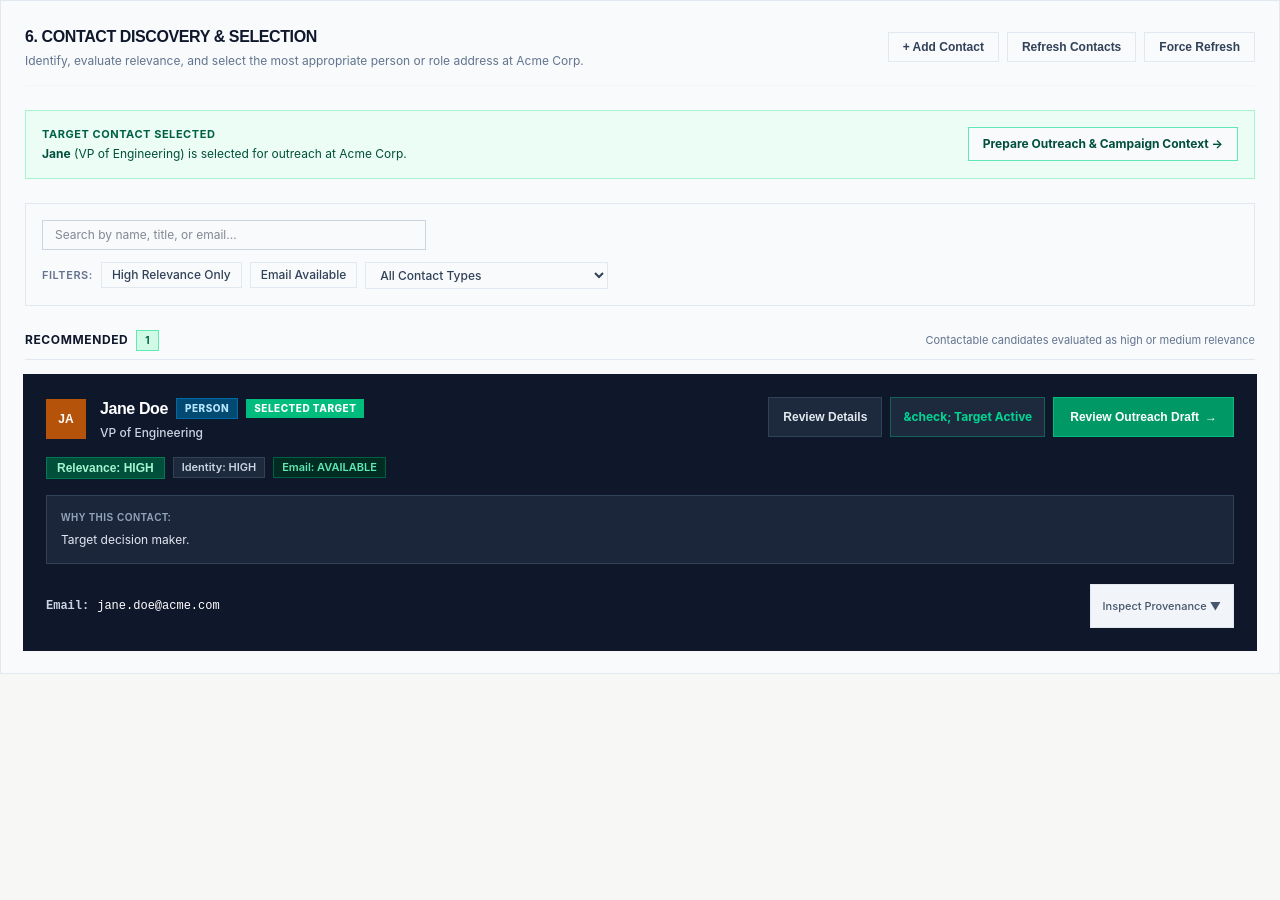
Test: ContactDiscoveryWorkspace Component - UX-004 Contact Discovery & Selection › does not open OutreachReviewDrawer and shows an error when canonical campaign is missing
Click the button "Review Outreach Draft →" at (1144, 417), box x1=1053 y1=397 x2=1234 y2=437
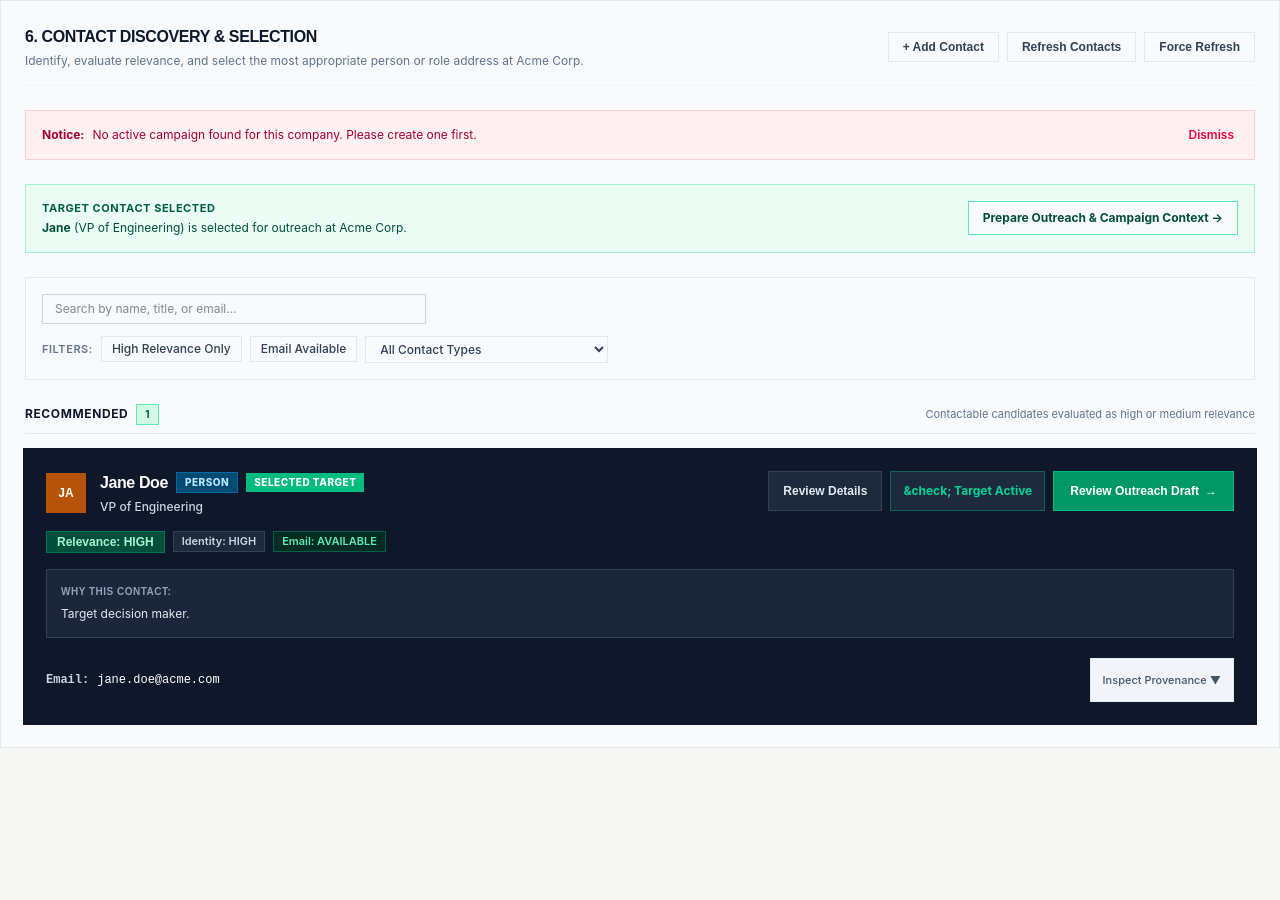
Now the message shows "No active campaign found for this company", box x1=92 y1=127 x2=477 y2=142
